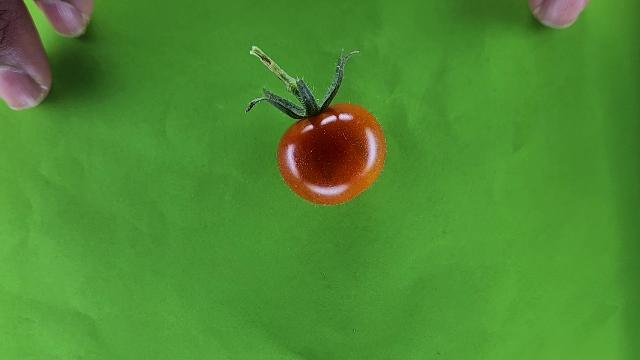Fully Grown: (274, 102, 388, 207)
